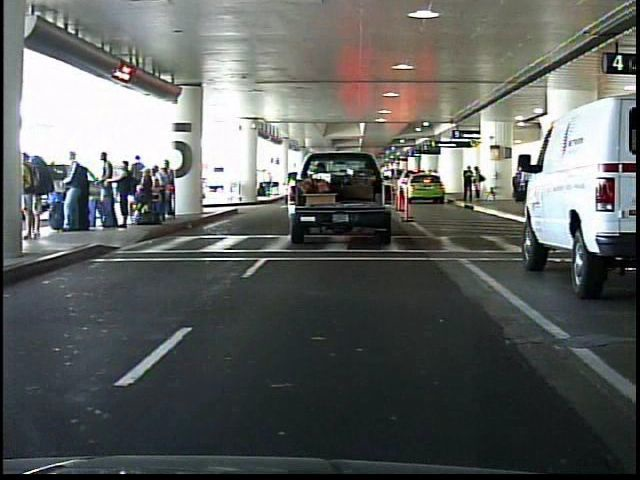person: (472, 165, 486, 203), (462, 165, 474, 203)
